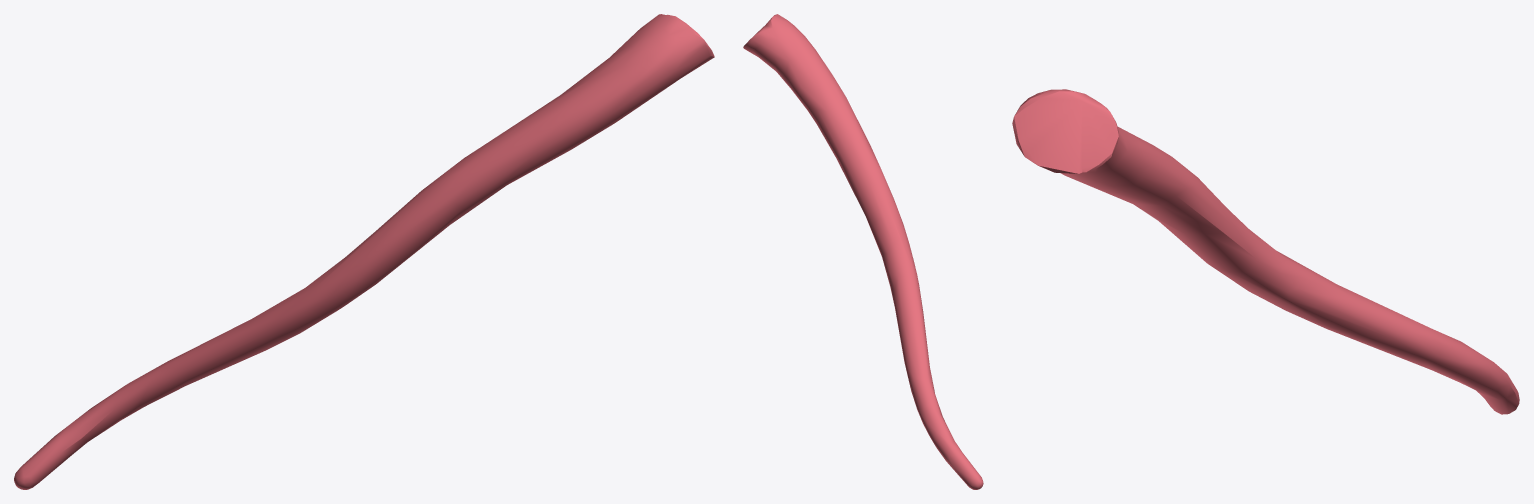
The model's file is fma70486_fj3561.glb.
3 renders of one model, left to right at view 1: azimuth 30°, elevation 25°; view 2: azimuth 150°, elevation 25°; view 3: azimuth 270°, elevation 25°, orthographic. The views are drawn at different scales.
Parts seen in each view (by area): view 1: FMA70486_FJ3561; view 2: FMA70486_FJ3561; view 3: FMA70486_FJ3561.
Boxes of the visible parts, bbox=[...] form: FMA70486_FJ3561: bbox=[14, 14, 714, 489]; FMA70486_FJ3561: bbox=[743, 14, 983, 489]; FMA70486_FJ3561: bbox=[1012, 89, 1519, 414].
Bounding box in the file's own units: 0.0227 × 0.0199 × 0.0146.
